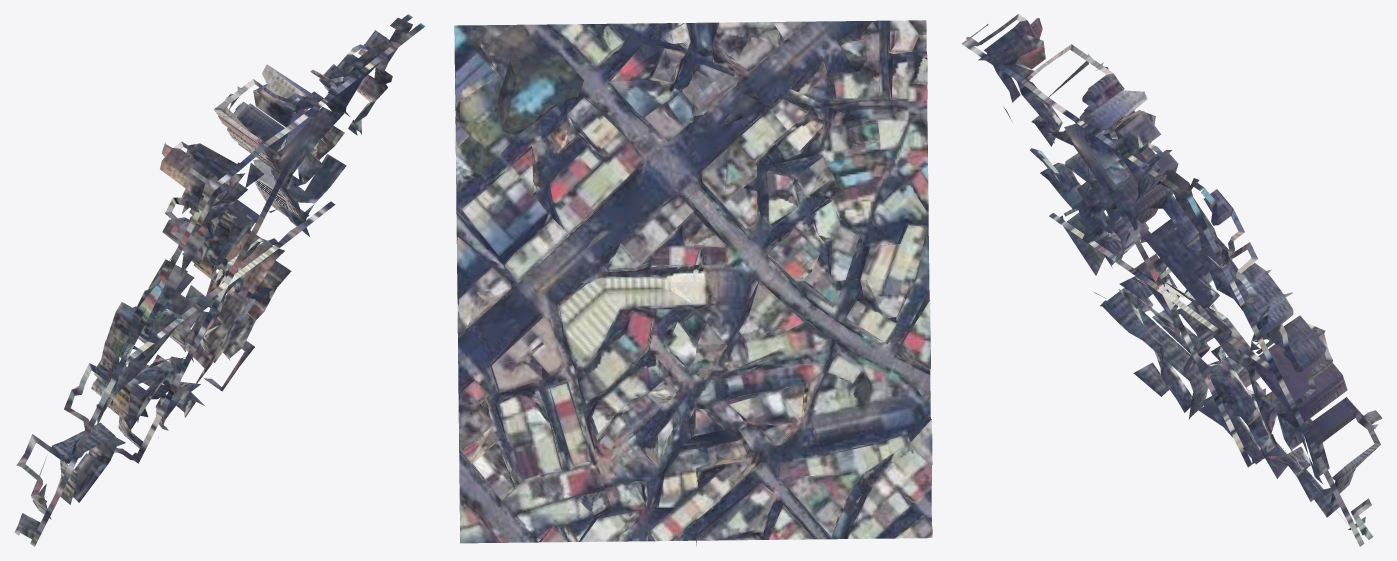
3 renders of one model, left to right at view 1: azimuth 30°, elevation 25°; view 2: azimuth 150°, elevation 25°; view 3: azimuth 270°, elevation 25°, orthographic. The views are drawn at different scales.
Size of the model in its own units: 311 by 295 by 269.
1 material, 1 textured.
